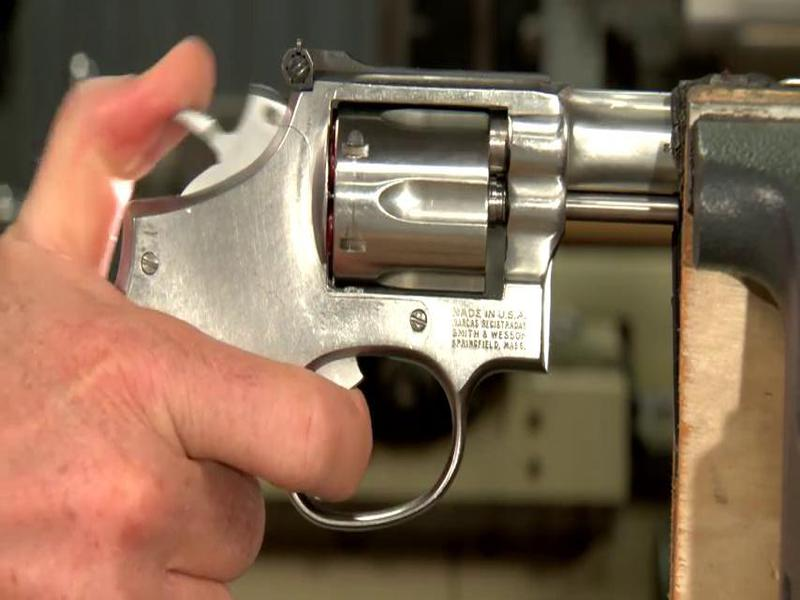Revolver: (107, 42, 660, 543)
